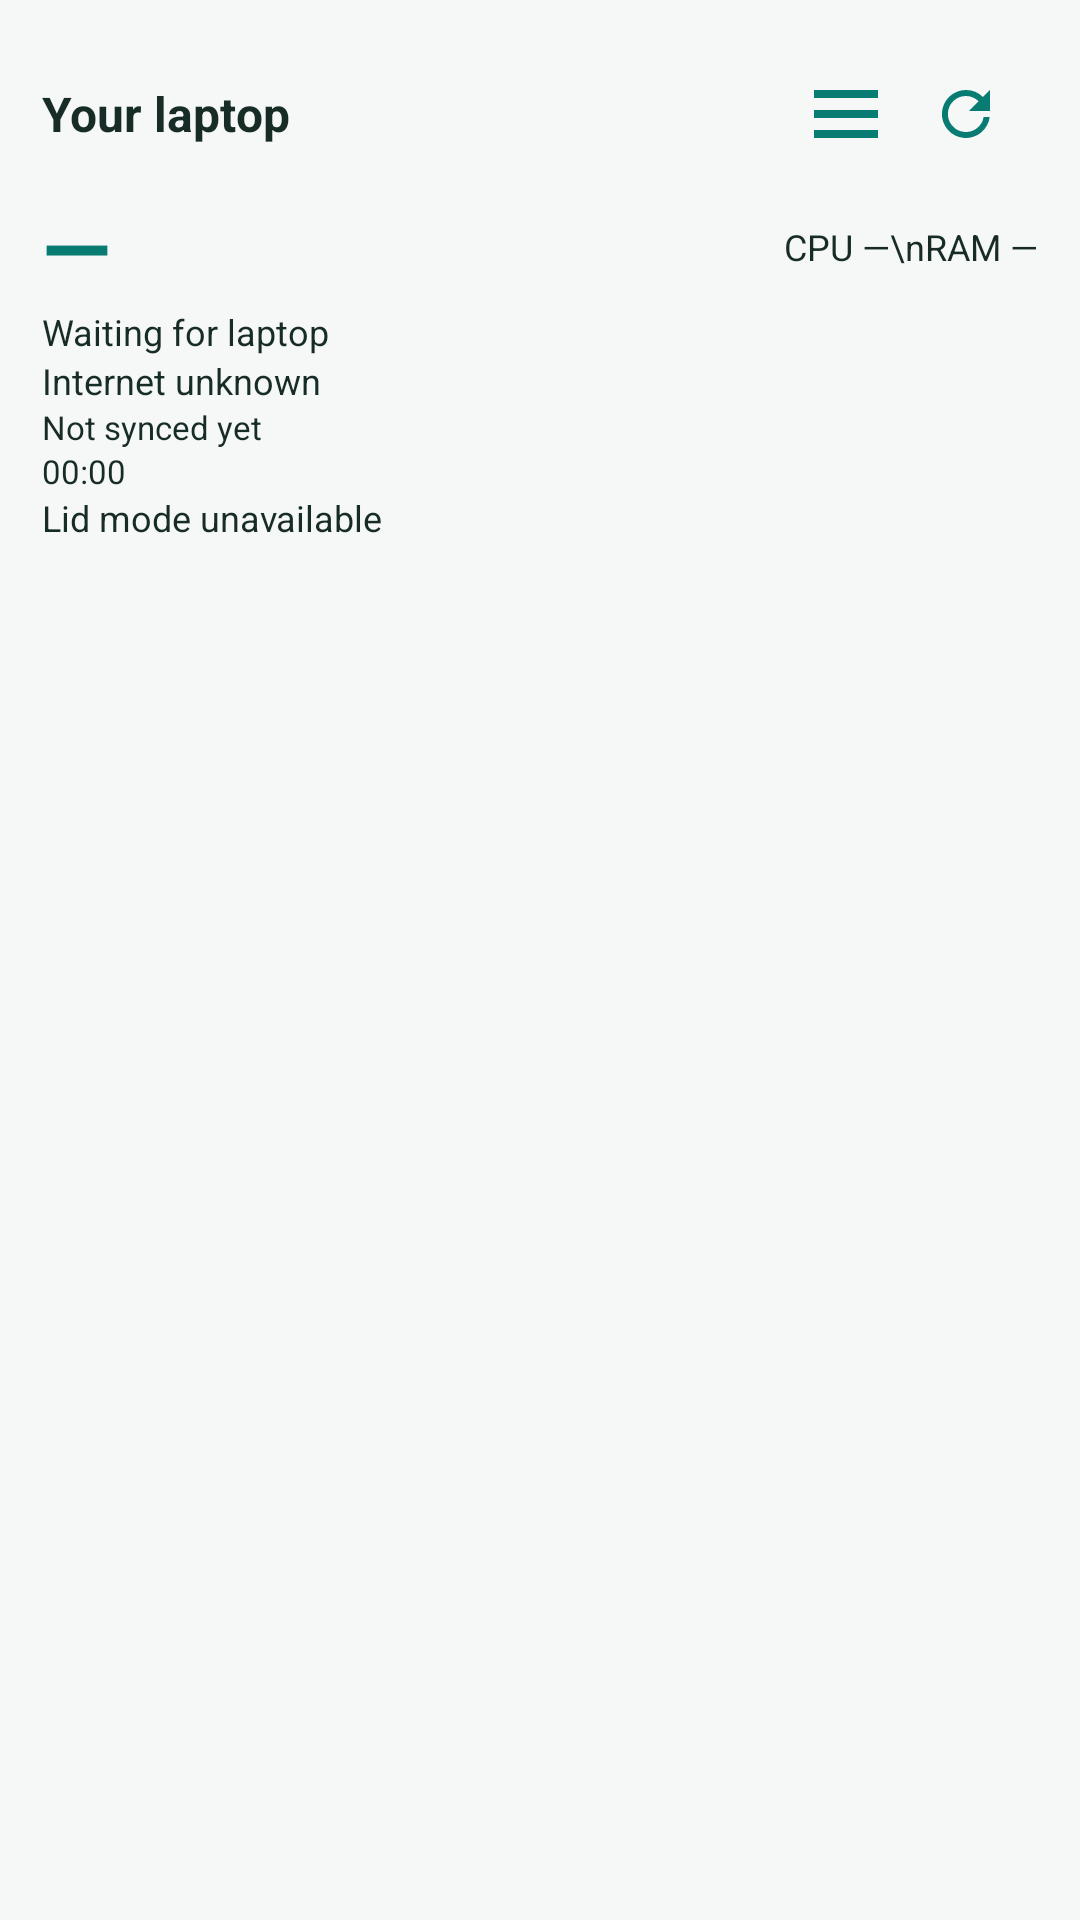

Locate icon controls on the screen. Image size 1080 × 1920, boxes as (x1, y1, x2, y2).
Refresh laptop status: (942, 90, 990, 138)
